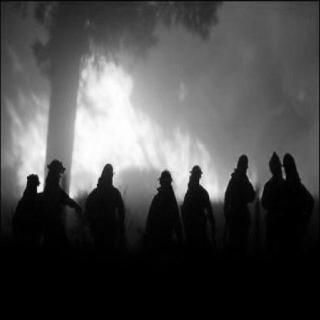Fire: (10, 97, 49, 187)
